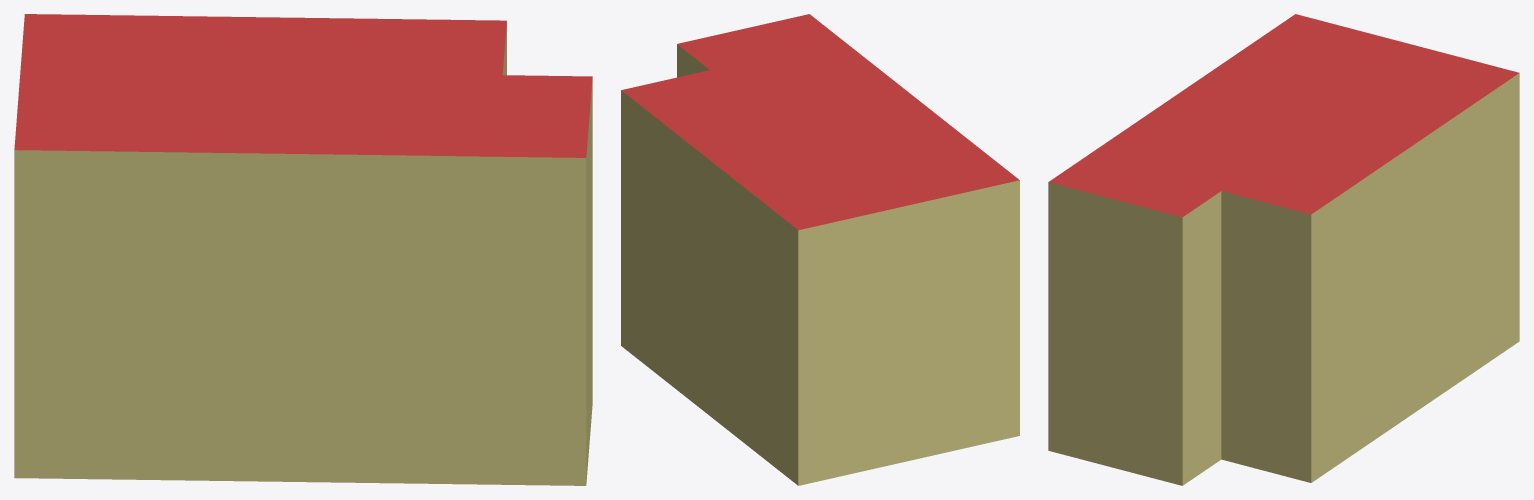
3 renders of one model, left to right at view 1: azimuth 30°, elevation 25°; view 2: azimuth 150°, elevation 25°; view 3: azimuth 270°, elevation 25°, orthographic. The views are drawn at different scales.
Size of the model in its own units: 8.96 by 8.77 by 5.52.
